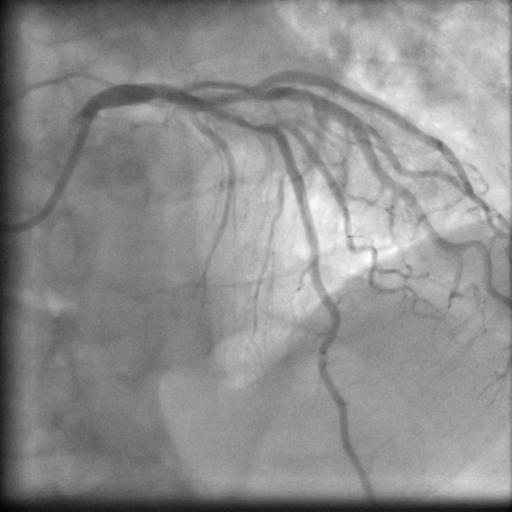Stenosis: (221, 108, 269, 130)
